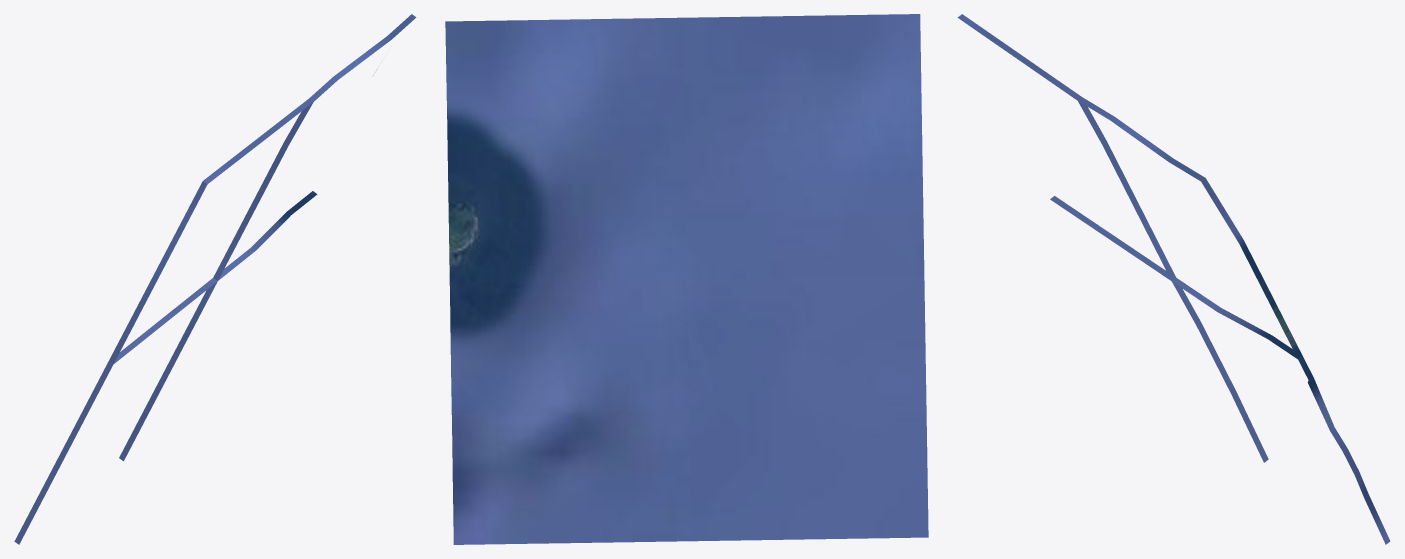
3 views of the same model, side by side, from view 1: azimuth 30°, elevation 25°; view 2: azimuth 150°, elevation 25°; view 3: azimuth 270°, elevation 25° (orthographic). The views are drawn at different scales.
Bounding box in the file's own units: 9804 × 8856 × 8377.
Materials: 1 (1 with a texture image).
